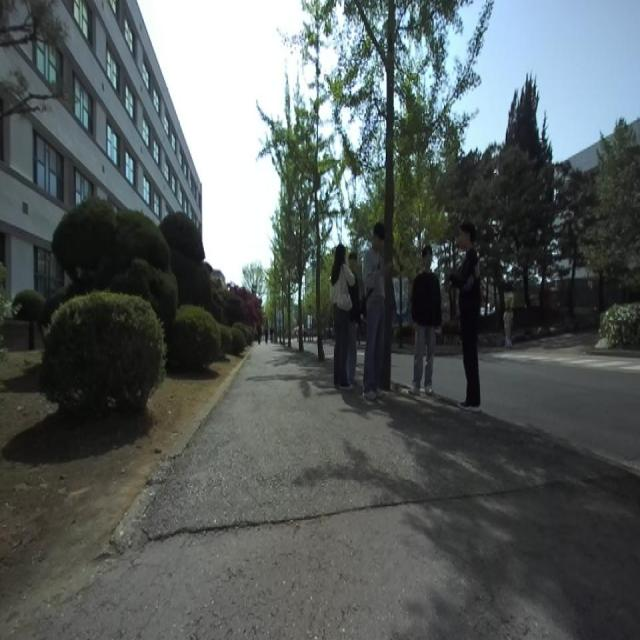sidewalk: (41, 345, 640, 639)
